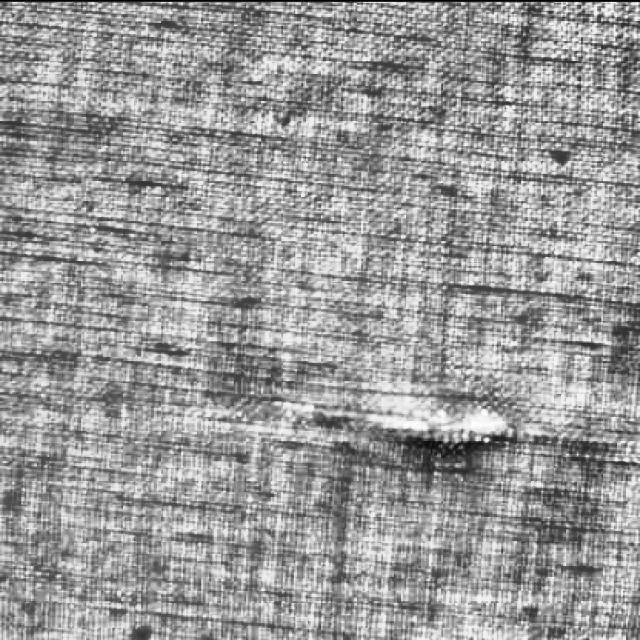thread_error: (257, 390, 526, 463)
